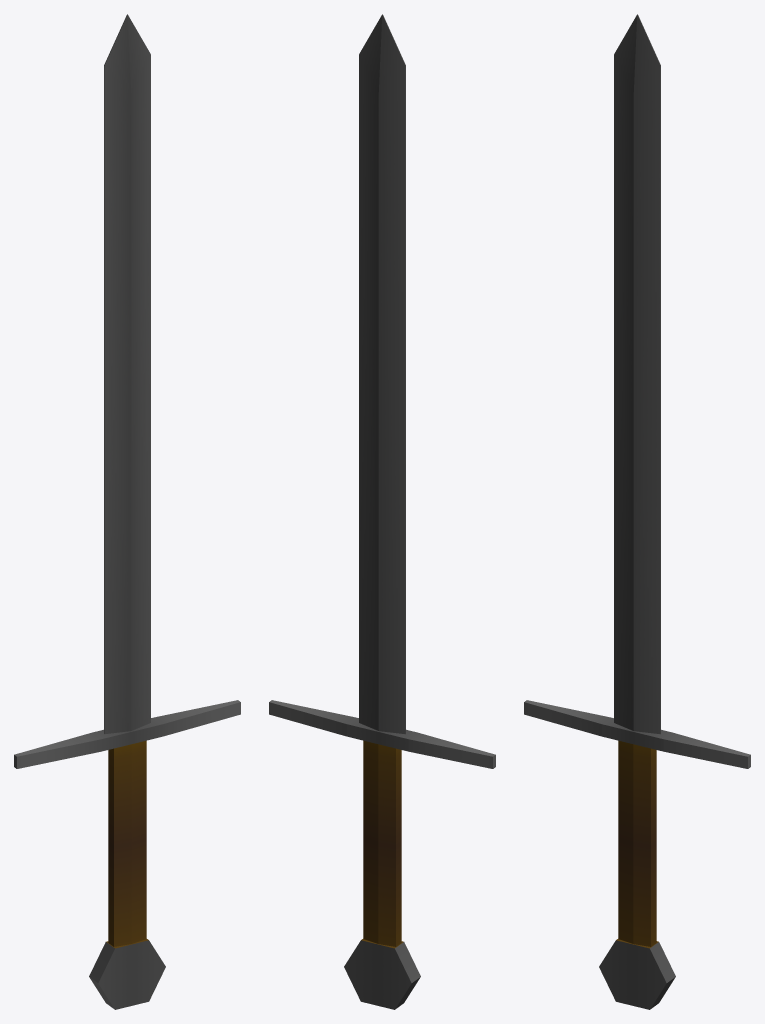
The model's file is sword.glb.
The picture shows the model from 3 angles, left to right: view 1: azimuth 30°, elevation 25°; view 2: azimuth 150°, elevation 25°; view 3: azimuth 330°, elevation 25°; orthographic projection.
Visible parts, largest first — view 1: Sword; view 2: Sword; view 3: Sword.
Boxes of the visible parts, bbox=[...] form: Sword: bbox=[14, 14, 240, 1009]; Sword: bbox=[269, 14, 495, 1009]; Sword: bbox=[524, 14, 750, 1009].
Size of the model in its own units: 0.1631 by 0.6879 by 0.0118.
1 material, 1 textured.
